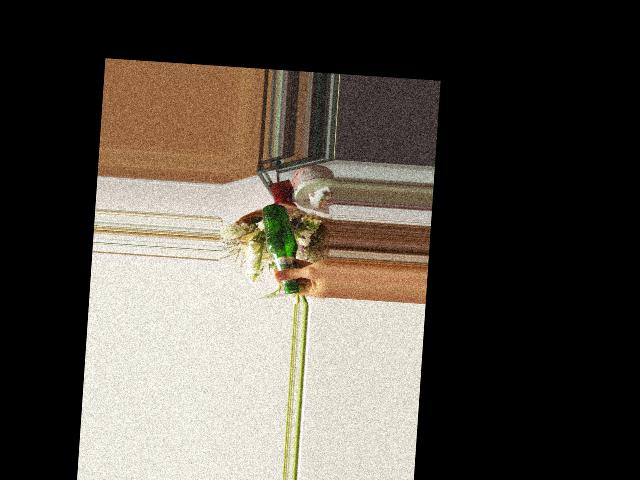beer: (256, 203, 301, 294)
